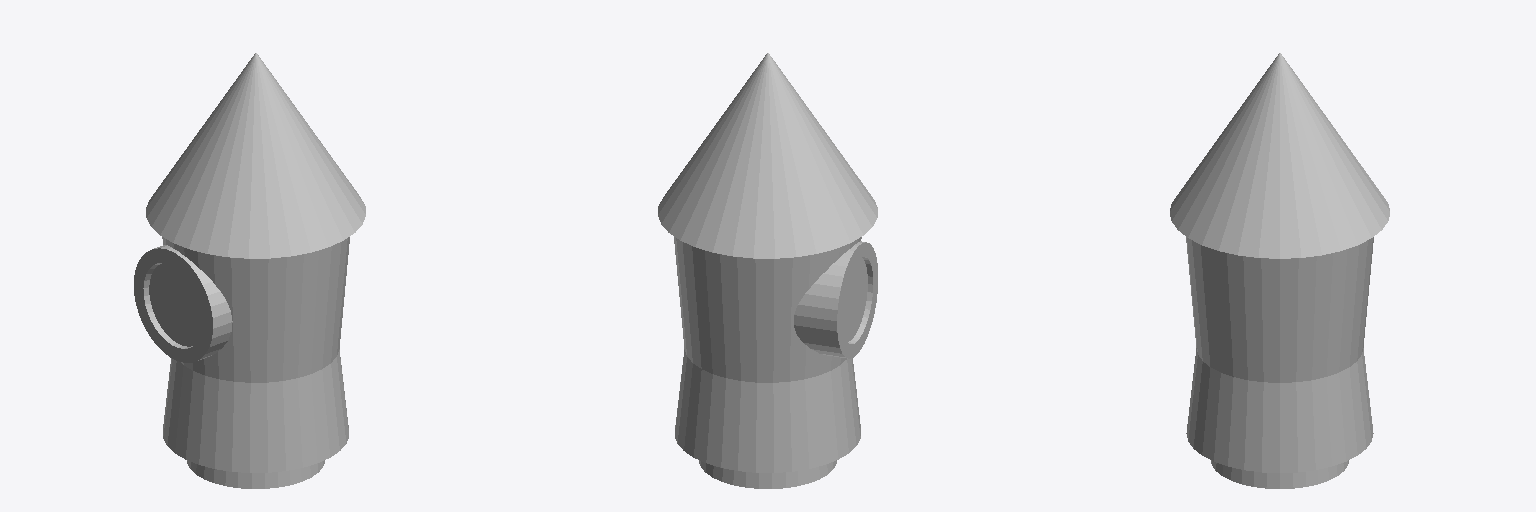
The model's file is SpaceShip.obj.
3 renders of one model, left to right at view 1: azimuth 30°, elevation 25°; view 2: azimuth 150°, elevation 25°; view 3: azimuth 270°, elevation 25°, orthographic.
Parts seen in each view (by area): view 1: Ship; view 2: Ship; view 3: Ship.
Boxes of the visible parts, x1,y1,x2,y2 form: Ship: [134, 53, 365, 488]; Ship: [658, 53, 877, 488]; Ship: [1170, 53, 1389, 488].
Bounding box in the file's own units: 1.6 × 3.26 × 1.6.